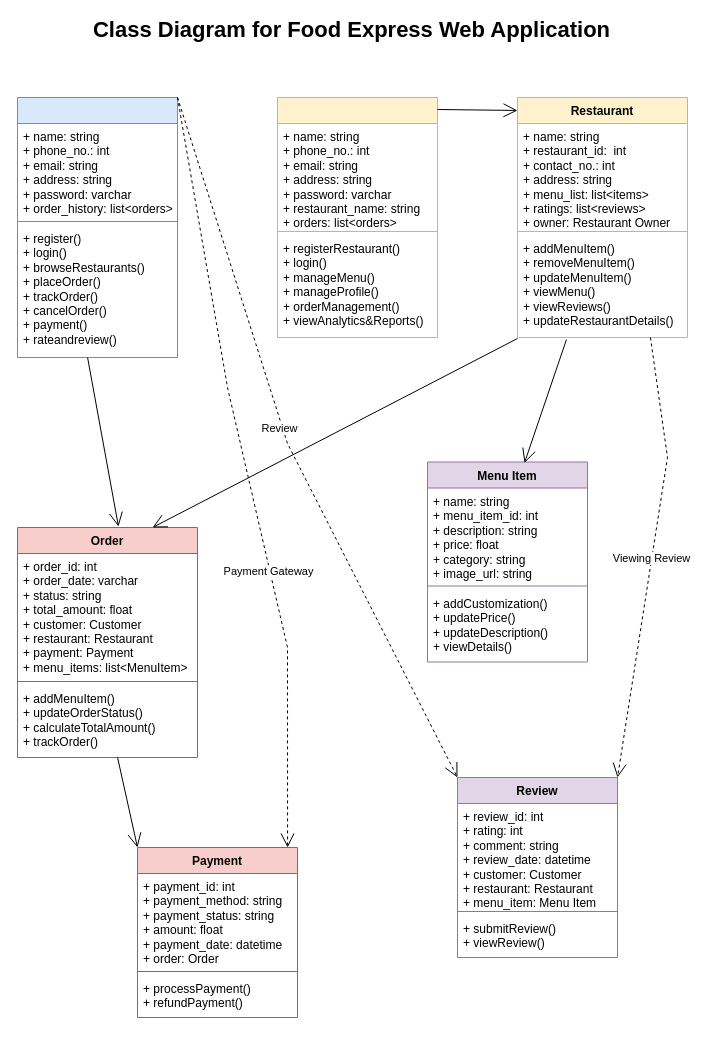
The diagram is 708 pixels wide and 1037 high, and some of its shapes have lost their labels. The shapes that lost their labels are listed below. From the top down, each one's box as (x1, y1, x2, y2) in pixels, then its label:
(16, 96, 178, 358): Customer
(276, 96, 438, 338): Restaurant Owner
